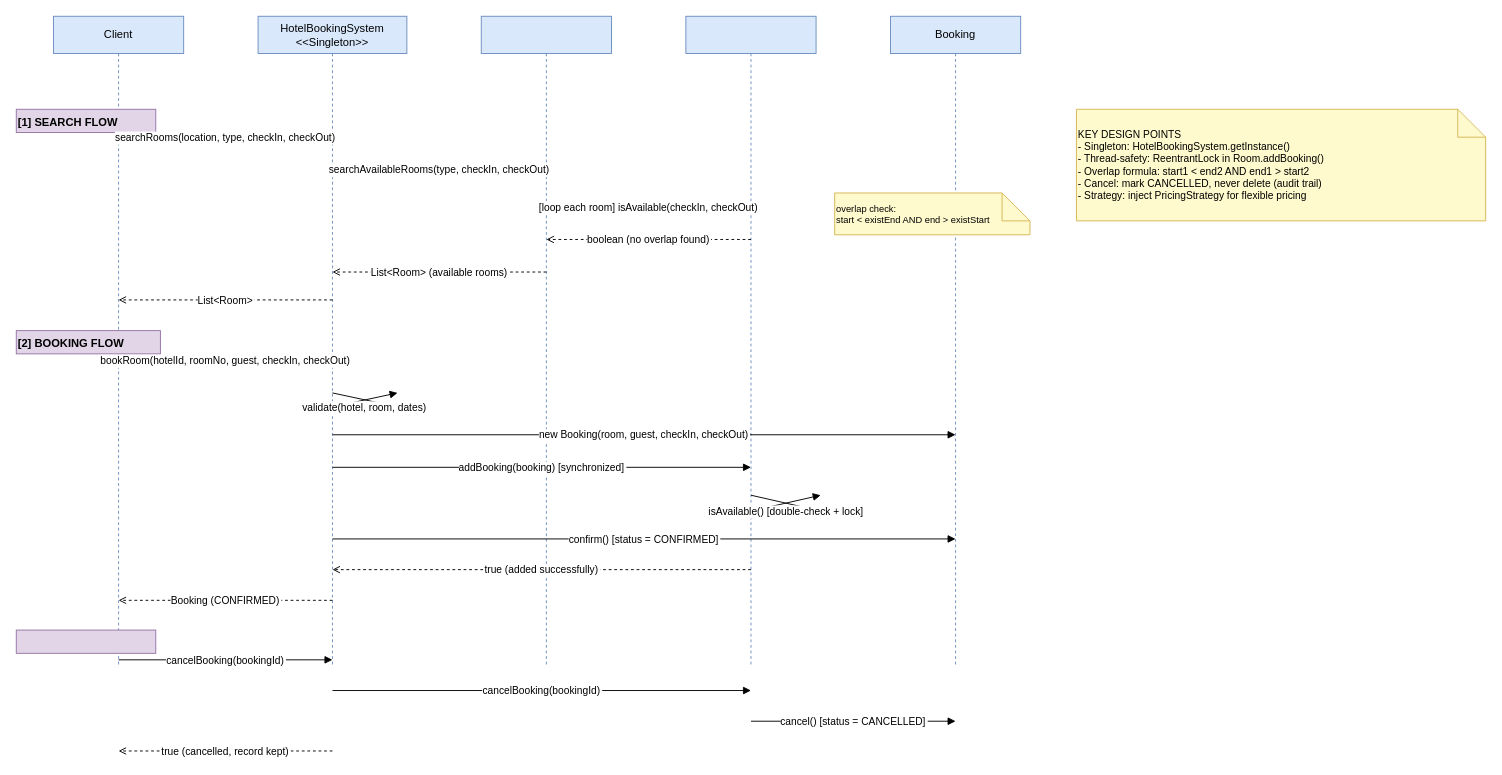
Image size: 1502x775. Some labels were removed from this diagram. The shapes that lost their labels are listed below. From the top down, each one's box as (x1, y1, x2, y2) in pixels, then its label:
(480, 15, 611, 667): Hotel
(685, 15, 816, 667): Room
(15, 629, 156, 653): [3] CANCEL FLOW
